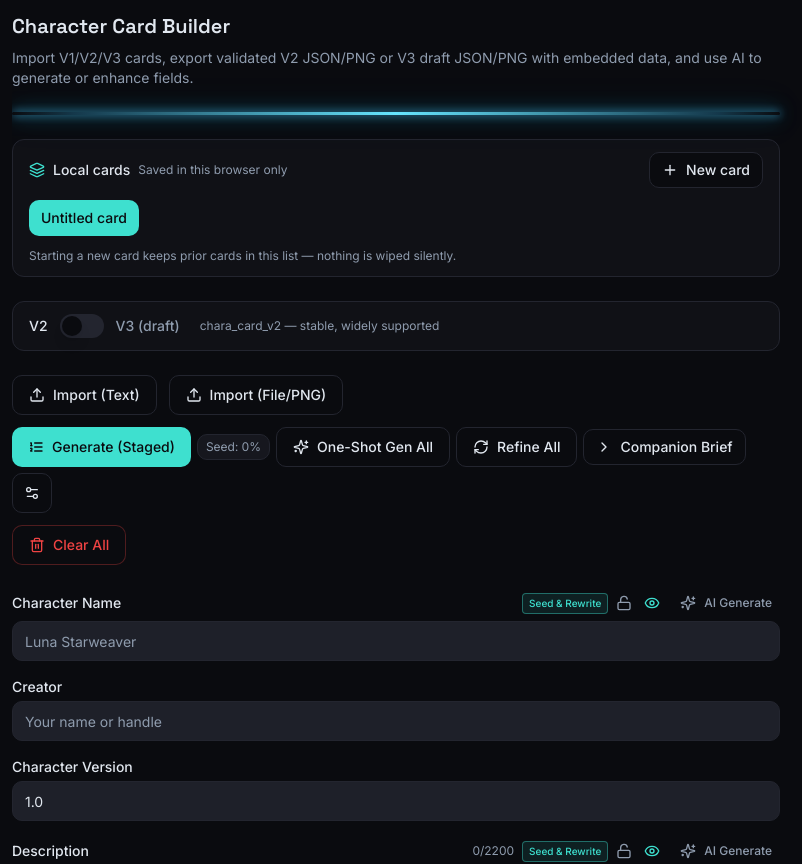
Test: CharacterCardBuilder canonical AI + R7 export sanitization › shows fallback warning when a non-preferred provider answers (D8)
Step 1. Click the button with test id "generate-staged-button" → click(101, 447), box [12,427,191,467]
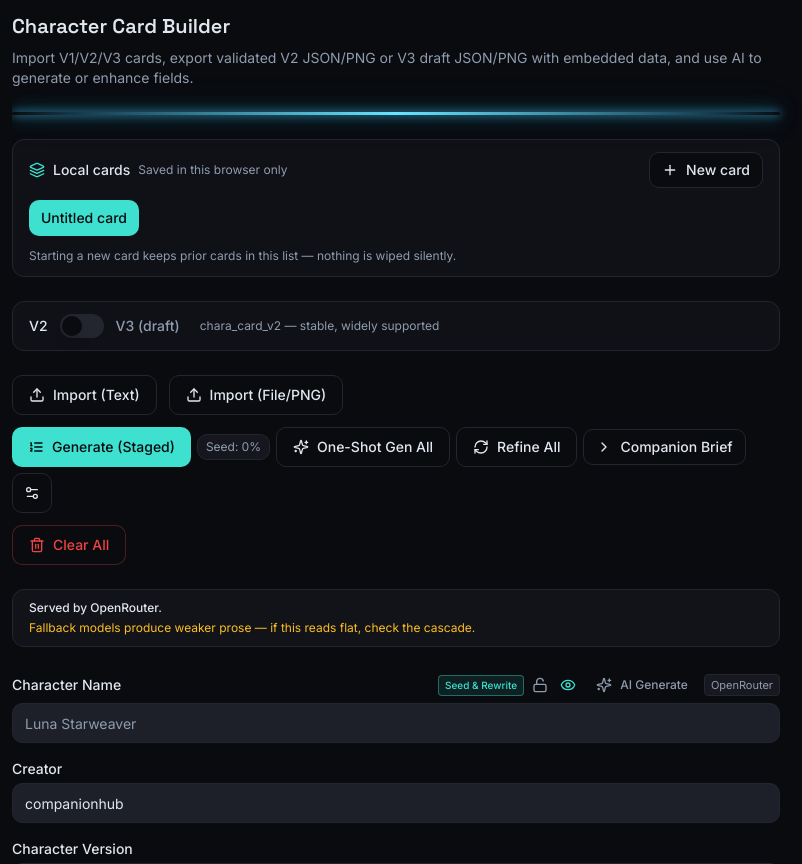
Check: the message with test id "run-provider-summary" shows "Served by OpenRouter.", box [12,589,780,647]
Check: the message with test id "run-provider-summary" shows "Fallback models produce weaker prose — if this reads flat, check the cascade.", box [29,620,475,635]
